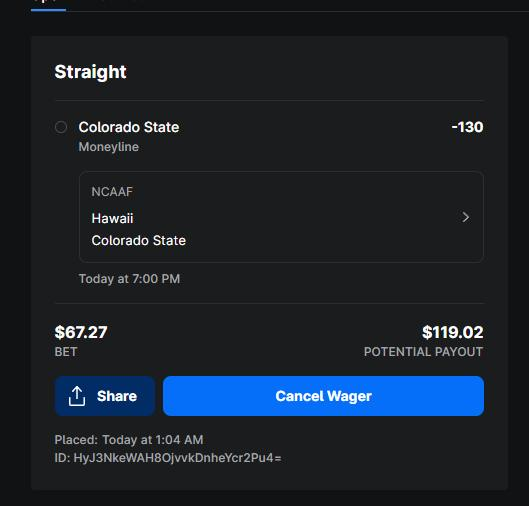game: (89, 209, 188, 249)
odds: (449, 118, 488, 138)
payout: (421, 322, 486, 342)
wager: (53, 322, 110, 342)
